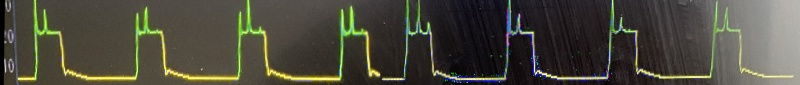hydrop_pressure: (16, 0, 800, 85)
